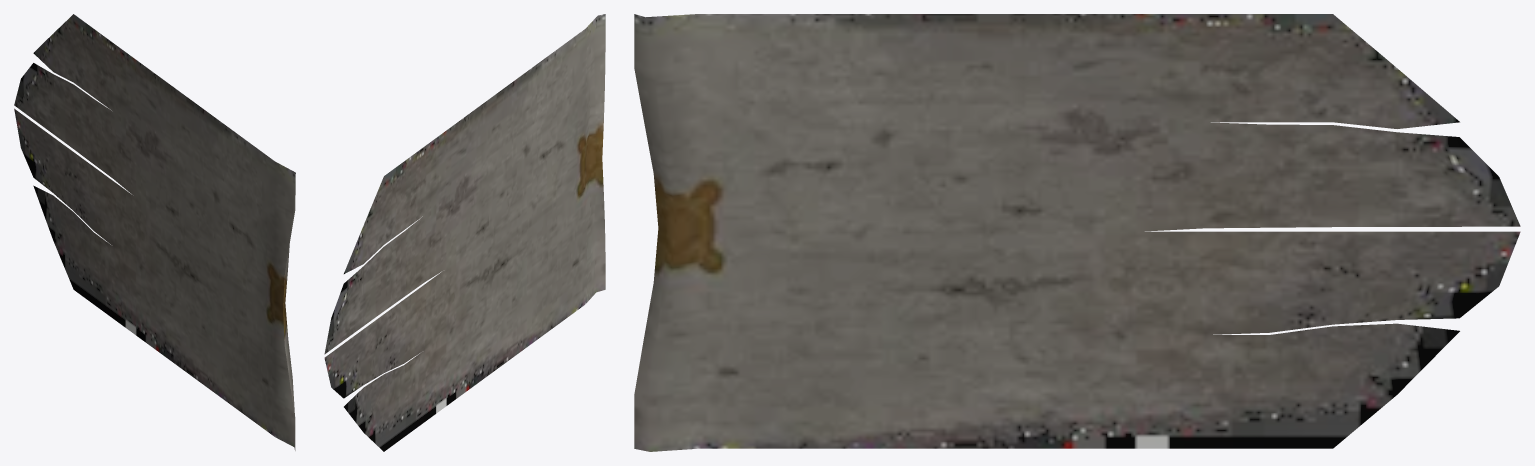
File: GEN_PRO_FabricDoor_SB_01A_LOD0-transformed.glb
3 views of the same model, side by side, from view 1: azimuth 30°, elevation 25°; view 2: azimuth 150°, elevation 25°; view 3: azimuth 270°, elevation 25° (orthographic). The views are drawn at different scales.
Visible parts, largest first — view 1: GEN_PRO_FabricDoor_SB_01A_LOD0; view 2: GEN_PRO_FabricDoor_SB_01A_LOD0; view 3: GEN_PRO_FabricDoor_SB_01A_LOD0.
Boxes of the visible parts, x1=… form: GEN_PRO_FabricDoor_SB_01A_LOD0: x1=14, y1=14, x2=295, y2=450; GEN_PRO_FabricDoor_SB_01A_LOD0: x1=324, y1=14, x2=605, y2=451; GEN_PRO_FabricDoor_SB_01A_LOD0: x1=634, y1=14, x2=1520, y2=451.
Size of the model in its own units: 0.000486 by 0.0149 by 0.0276.
Materials: 1 (1 with a texture image).
